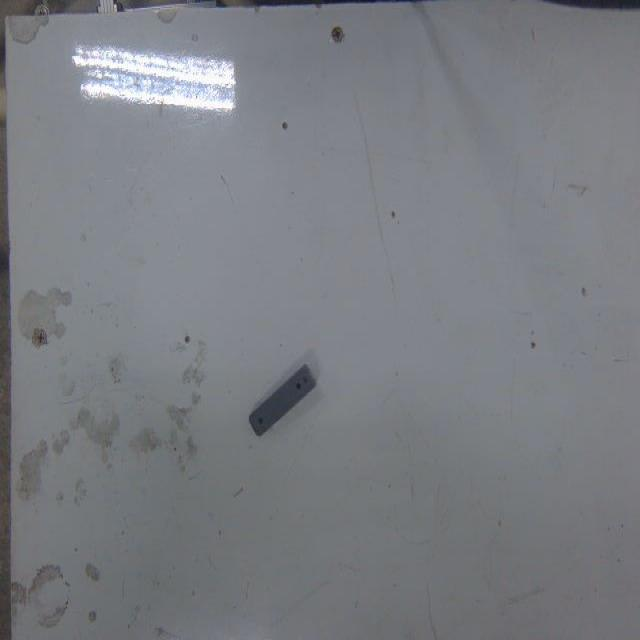grey: (249, 359, 317, 444)
head: (256, 416, 264, 428)
